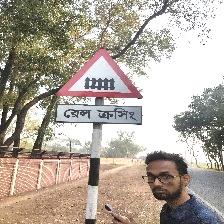Rail-crossing: (54, 51, 144, 126)
